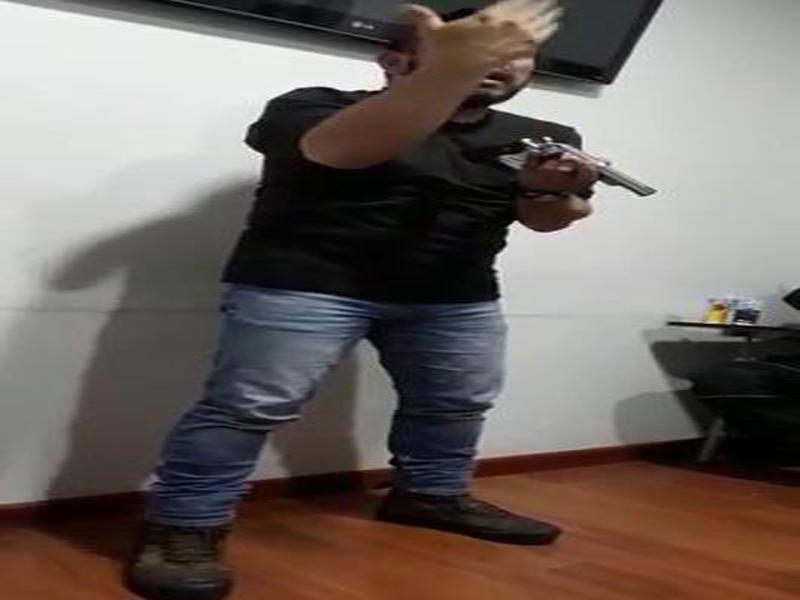Revolver: (493, 121, 673, 231)
